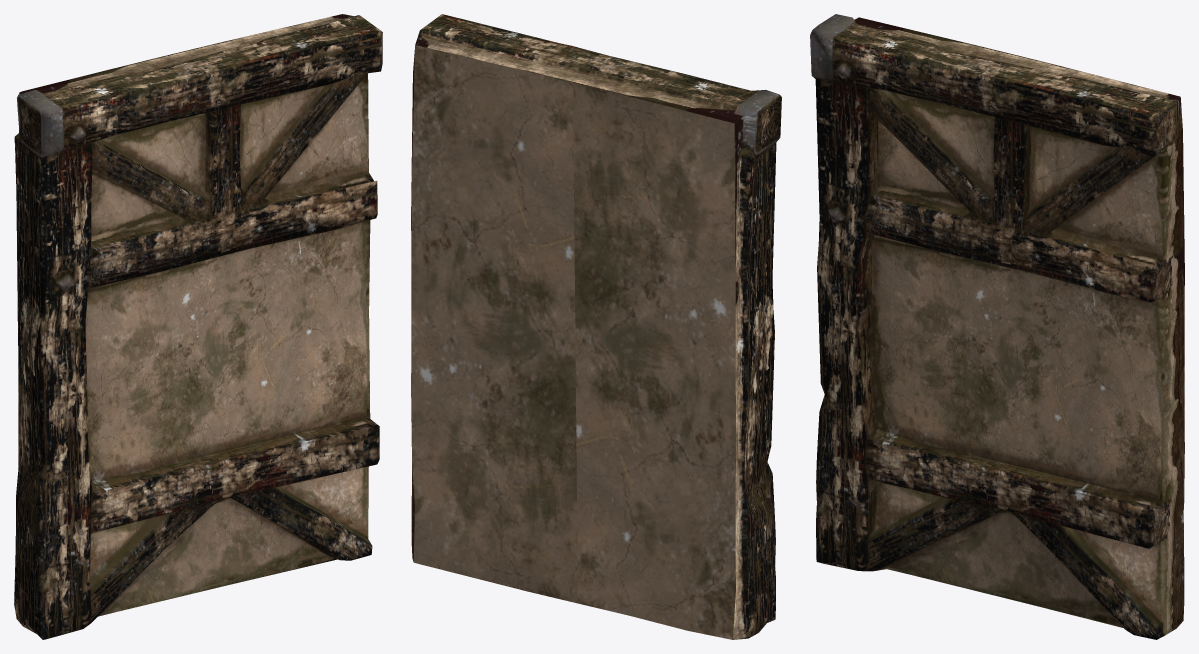
The model's file is Medieval_WallTall_WindowBase.FBX.
3 renders of one model, left to right at view 1: azimuth 30°, elevation 25°; view 2: azimuth 150°, elevation 25°; view 3: azimuth 330°, elevation 25°, orthographic.
Visible parts, largest first — view 1: Medieval_WallTall_WindowBase_LOD0; view 2: Medieval_WallTall_WindowBase_LOD0; view 3: Medieval_WallTall_WindowBase_LOD0.
Boxes of the visible parts, box(x1,y1,x2,y2) form: Medieval_WallTall_WindowBase_LOD0: box(14, 14, 382, 639); Medieval_WallTall_WindowBase_LOD0: box(411, 14, 781, 639); Medieval_WallTall_WindowBase_LOD0: box(810, 14, 1184, 639).
Size of what is drawn, in the model's own units: 3.08 by 4.55 by 0.6006.
